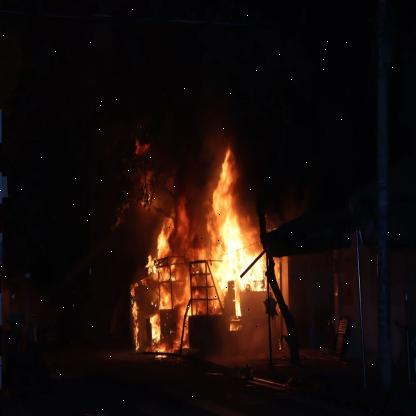fire: (131, 144, 277, 351)
